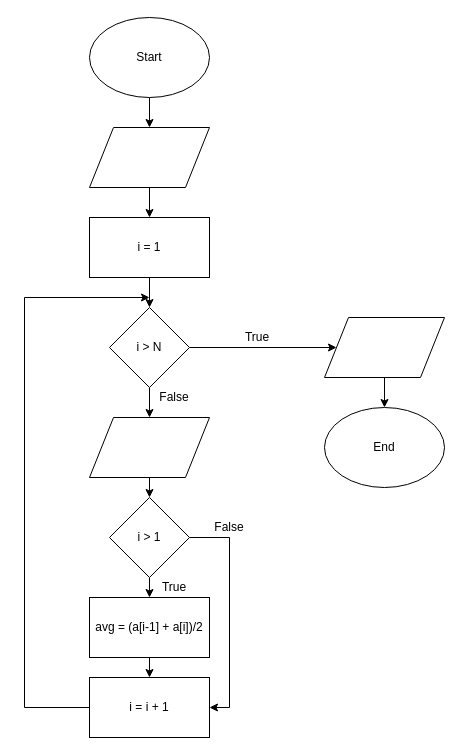
Some shapes in this 462 by 755 pixel diagram are drawn without their labels. The shapes that lost their labels are listed below. From the top down, each one's box as (x1, y1, x2, y2) in pixels, then its label:
(88, 126, 210, 188): Input N
(324, 316, 444, 378): Print avg
(88, 416, 210, 478): Input a[i]
